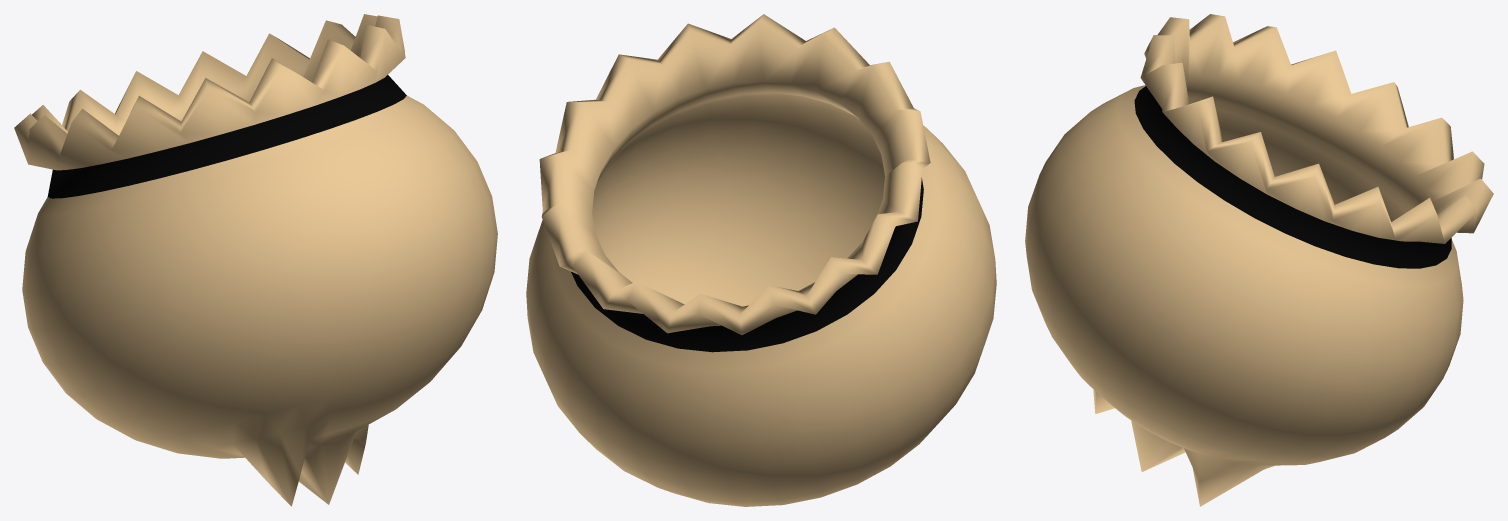
File: GlovesL.fbx
The picture shows the model from 3 angles, left to right: view 1: azimuth 30°, elevation 25°; view 2: azimuth 150°, elevation 25°; view 3: azimuth 270°, elevation 25°; orthographic projection. The views are drawn at different scales.
Parts seen in each view (by area): view 1: Sphere.004; view 2: Sphere.004; view 3: Sphere.004.
Boxes of the visible parts, box(x1,y1,x2,y2) form: Sphere.004: box(14, 14, 497, 506); Sphere.004: box(526, 14, 996, 506); Sphere.004: box(1025, 14, 1493, 506).
Size of the model in its own units: 27 by 28.11 by 28.01.
